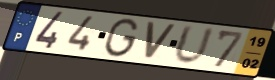4: (32, 11, 64, 51), (65, 15, 96, 53)
7: (213, 28, 247, 69)
G: (102, 17, 141, 59)
U: (172, 23, 217, 67)
V: (143, 20, 179, 62)
